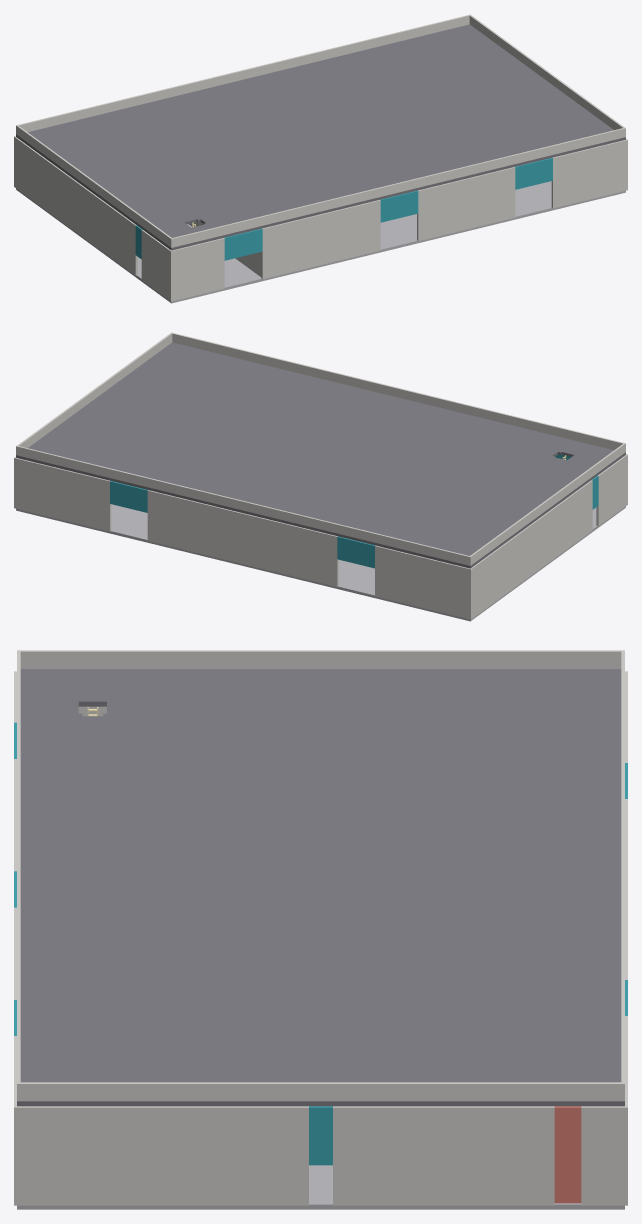
File: freight_terminal_a01.glb
3 renders of one model, top to bottom at view 1: azimuth 30°, elevation 25°; view 2: azimuth 150°, elevation 25°; view 3: azimuth 270°, elevation 25°, orthographic. The views are drawn at different scales.
Visible parts, largest first — view 1: slab_1_t1_1, ext_0_S_seg4, ext_0_S_seg11, slab_1_t3_8, slab_1_t5_3, slab_1_t5_9, slab_1_t1_3, slab_1_t1_4, slab_1_t1_6, slab_1_t2_5, slab_1_t4_2, slab_1_t4_6 (+128 smaller); view 2: ext_0_N_seg6, slab_1_t1_3, slab_1_t1_9, slab_1_t3_8, slab_1_t2_2, slab_1_t2_6, slab_1_t4_5, slab_1_t5_3, slab_1_t5_4, slab_1_t5_6, slab_1_t1_4, slab_1_t1_5 (+129 smaller); view 3: ext_0_E_seg0, ext_0_E_seg1, ext_0_E_seg2, ext_0_E_seg3, ext_0_E_seg4, ext_0_E_seg5, ext_0_E_seg6, ext_0_E_seg14, ext_0_E_seg8, ext_0_E_seg9, ext_0_E_seg10, ext_0_E_seg11 (+98 smaller).
Part boxes in pixels (box(x1,y1,x2,y2)): slab_1_t1_1: box(168, 195, 231, 223); ext_0_S_seg4: box(261, 224, 279, 279); ext_0_S_seg11: box(417, 186, 435, 241); slab_1_t3_8: box(413, 92, 476, 118); slab_1_t5_3: box(162, 110, 225, 136); slab_1_t5_9: box(410, 49, 473, 75); slab_1_t1_3: box(251, 175, 314, 201); slab_1_t1_4: box(292, 165, 355, 191); slab_1_t1_6: box(375, 145, 437, 171); slab_1_t2_5: box(311, 138, 374, 164); slab_1_t4_2: box(143, 136, 206, 162); slab_1_t4_6: box(308, 96, 371, 122); ext_0_N_seg6: box(320, 532, 338, 586); slab_1_t1_3: box(416, 428, 479, 454); slab_1_t1_9: box(168, 367, 231, 393); slab_1_t3_8: box(165, 410, 228, 436); slab_1_t2_2: box(435, 454, 498, 480); slab_1_t2_6: box(270, 414, 333, 440); slab_1_t4_5: box(267, 456, 330, 482); slab_1_t5_3: box(327, 493, 390, 519); slab_1_t5_4: box(286, 483, 349, 509); slab_1_t5_6: box(204, 463, 266, 489); slab_1_t1_4: box(375, 418, 437, 444); slab_1_t1_5: box(334, 408, 396, 434); ext_0_E_seg0: box(19, 1106, 57, 1205); ext_0_E_seg1: box(57, 1106, 95, 1205); ext_0_E_seg2: box(95, 1106, 133, 1205); ext_0_E_seg3: box(133, 1106, 171, 1205); ext_0_E_seg4: box(171, 1106, 209, 1205); ext_0_E_seg5: box(209, 1106, 247, 1205); ext_0_E_seg6: box(247, 1106, 285, 1205); ext_0_E_seg14: box(581, 1106, 619, 1205); ext_0_E_seg8: box(333, 1106, 370, 1205); ext_0_E_seg9: box(371, 1106, 408, 1205); ext_0_E_seg10: box(409, 1106, 446, 1205); ext_0_E_seg11: box(447, 1106, 484, 1205).
Size of what is drawn, in the model's own units: 54.3 by 7.3 by 32.3.
